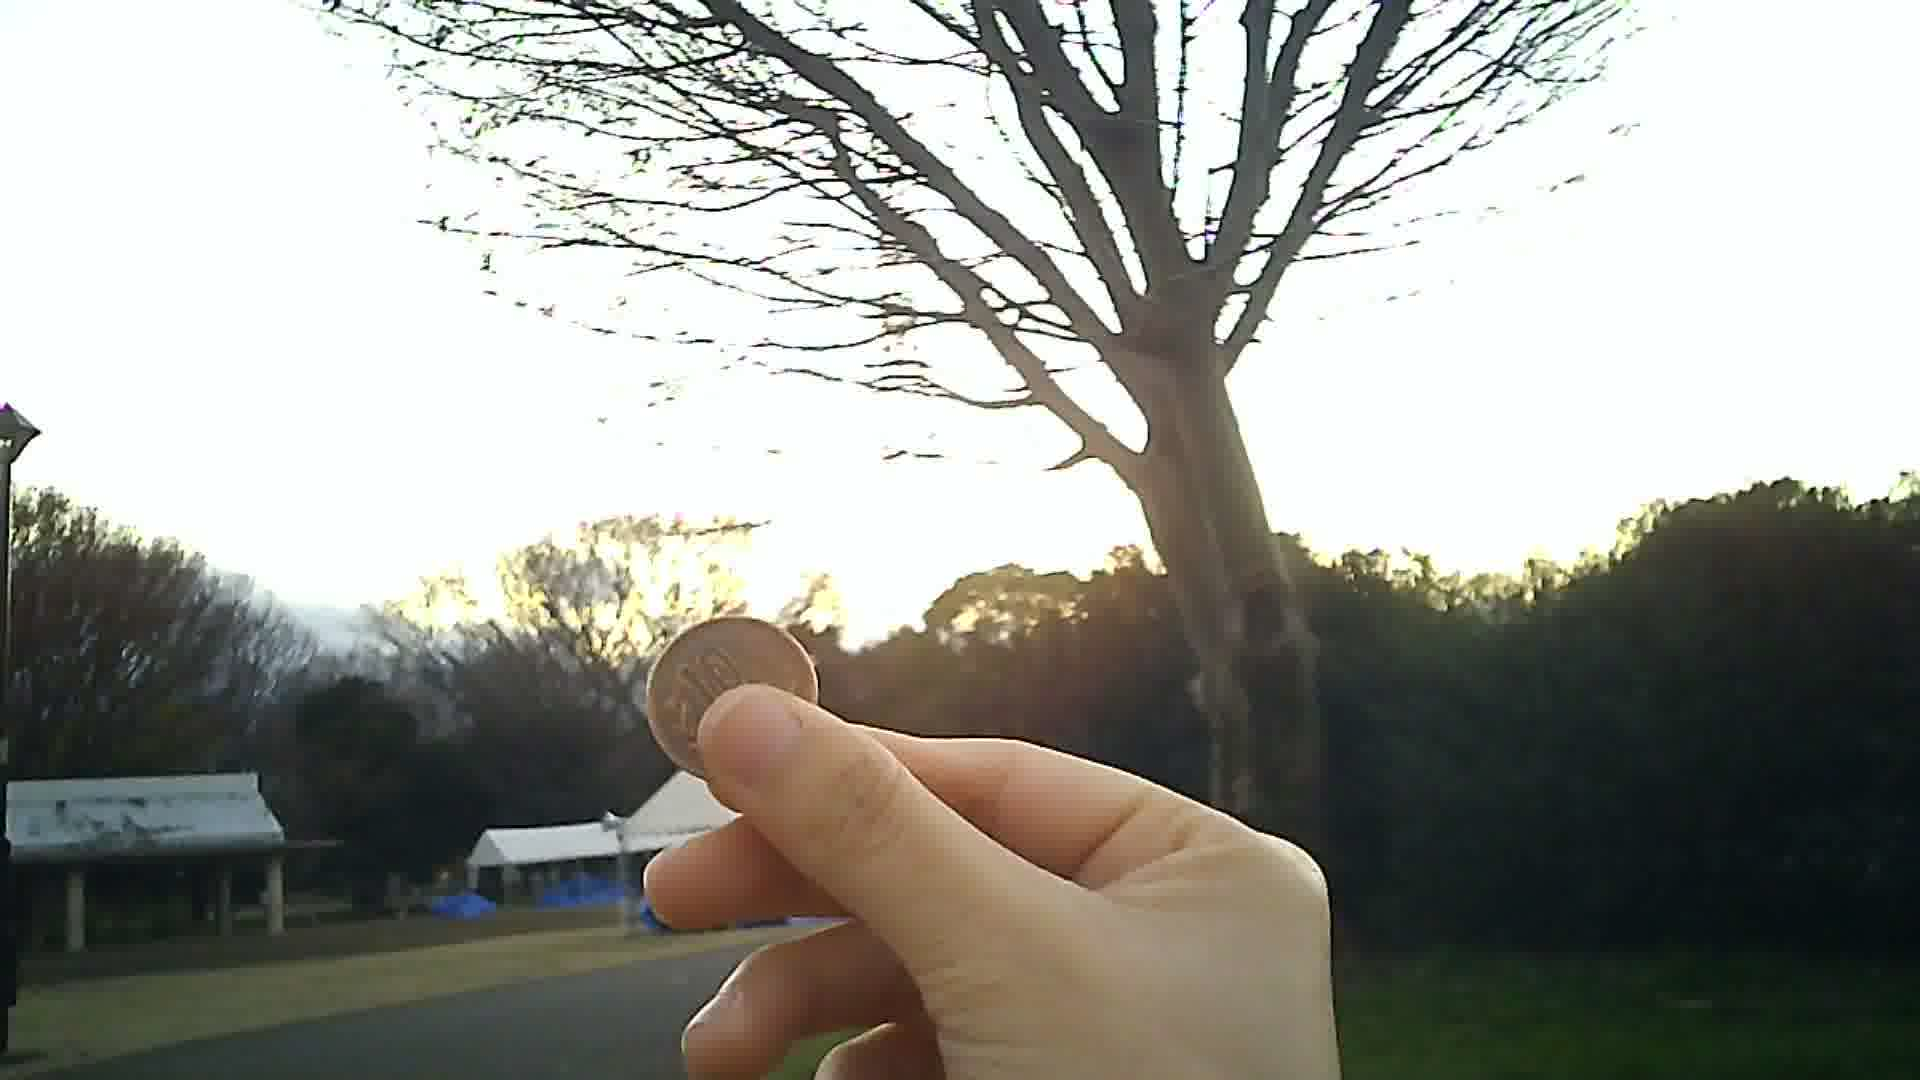10 Yen: (642, 611, 823, 781)
